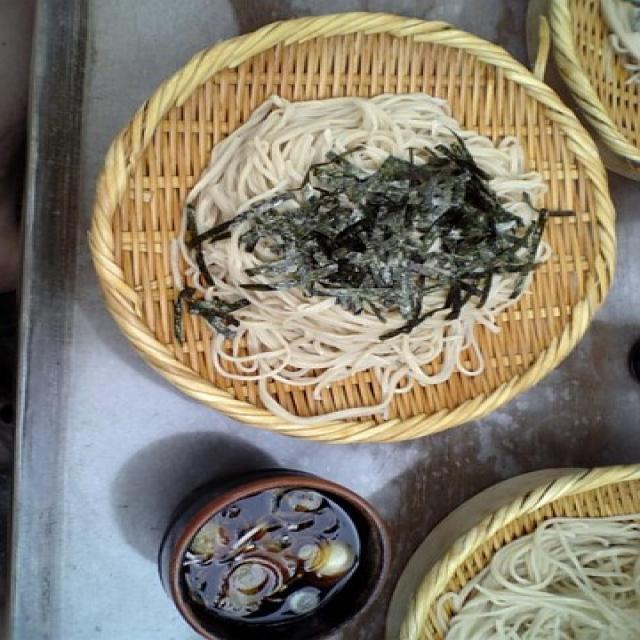面条主食: (155, 76, 572, 392)
